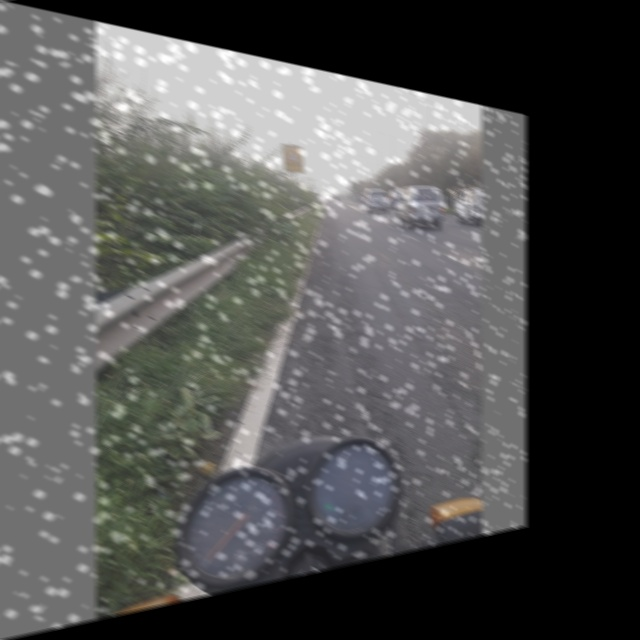Narrow_Bridge: (282, 143, 302, 169)
